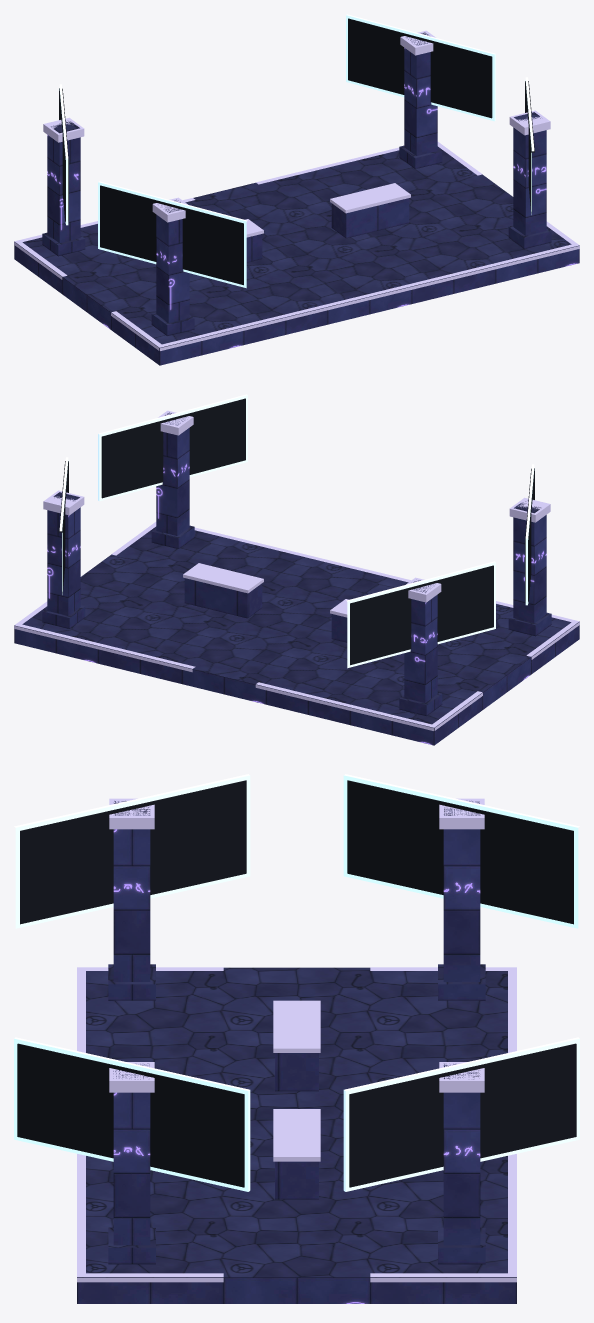
The model's file is skyreach_nexus_skywalk_v34.glb.
3 renders of one model, top to bottom at view 1: azimuth 30°, elevation 25°; view 2: azimuth 150°, elevation 25°; view 3: azimuth 270°, elevation 25°, orthographic. The views are drawn at different scales.
Visible parts, largest first — view 1: skin; view 2: skin; view 3: skin.
Boxes of the visible parts, left/top/right/bottom form: skin: left=14, top=14, right=579, bottom=365; skin: left=14, top=394, right=579, bottom=745; skin: left=14, top=774, right=579, bottom=1303.
Size of the model in its own units: 20.48 by 6.67 by 15.45.
6 materials, 3 textured.
